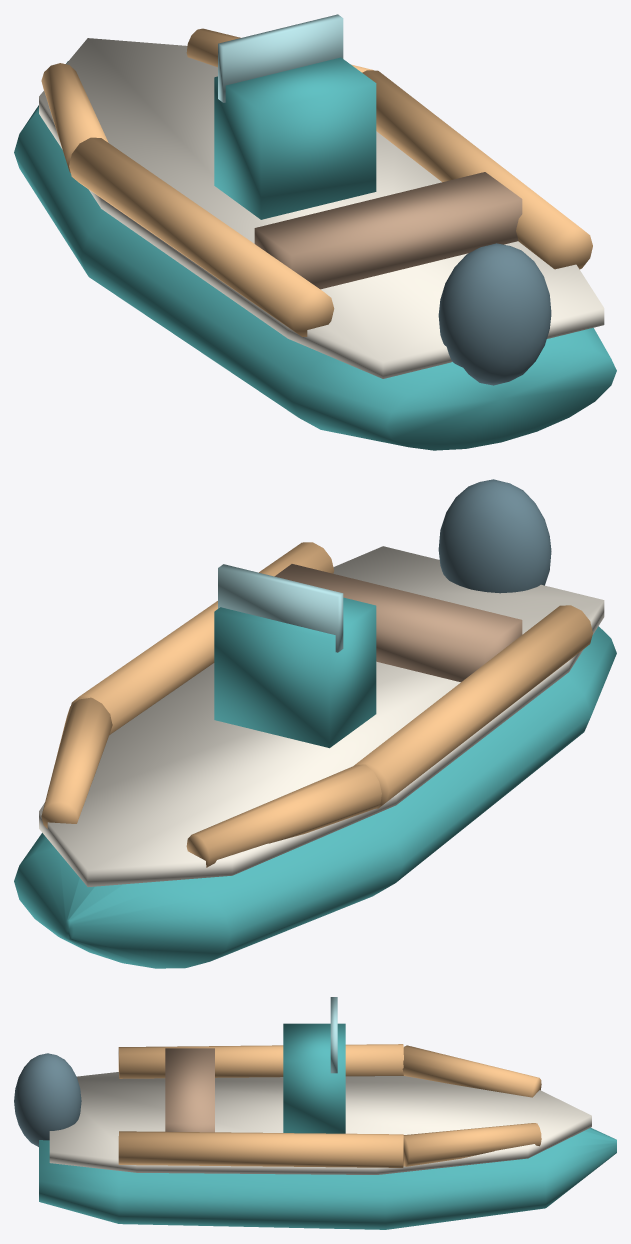
The model's file is rescue_boat.glb.
3 views of the same model, one above another, from view 1: azimuth 30°, elevation 25°; view 2: azimuth 150°, elevation 25°; view 3: azimuth 270°, elevation 25° (orthographic). The views are drawn at different scales.
Parts seen in each view (by area): view 1: shaped_hull, cream_deck, console, rear_bench, inflatable_rail_-1, outboard_motor, inflatable_rail_1, windshield, bow_rail_-1, bow_rail_1; view 2: cream_deck, shaped_hull, console, inflatable_rail_-1, rear_bench, outboard_motor, inflatable_rail_1, bow_rail_-1, windshield, bow_rail_1; view 3: shaped_hull, cream_deck, inflatable_rail_1, console, inflatable_rail_-1, outboard_motor, rear_bench, bow_rail_1, bow_rail_-1, windshield.
Boxes of the visible parts, box(x1,y1,x2,y2) form: shaped_hull: box(14, 61, 616, 450); cream_deck: box(39, 38, 604, 378); console: box(214, 57, 376, 219); rear_bench: box(254, 172, 522, 289); inflatable_rail_-1: box(69, 137, 334, 336); outboard_motor: box(438, 243, 551, 385); inflatable_rail_1: box(362, 70, 592, 269); windshield: box(218, 14, 343, 102); bow_rail_-1: box(41, 63, 108, 172); bow_rail_1: box(186, 28, 373, 72); cream_deck: box(39, 546, 604, 886); shaped_hull: box(14, 626, 616, 968); console: box(214, 597, 376, 748); inflatable_rail_-1: box(354, 605, 592, 808); rear_bench: box(274, 564, 522, 682); outboard_motor: box(438, 479, 551, 593); inflatable_rail_1: box(71, 542, 334, 734); bow_rail_-1: box(186, 764, 381, 867); windshield: box(218, 564, 343, 652); bow_rail_1: box(41, 697, 112, 828); shaped_hull: box(39, 1127, 616, 1229); cream_deck: box(49, 1072, 591, 1174); inflatable_rail_1: box(118, 1131, 403, 1167); console: box(283, 1023, 345, 1133); inflatable_rail_-1: box(118, 1044, 403, 1078); outboard_motor: box(14, 1053, 81, 1146); rear_bench: box(165, 1048, 214, 1132); bow_rail_1: box(403, 1123, 541, 1166); bow_rail_-1: box(402, 1045, 541, 1097); windshield: box(330, 997, 337, 1073).
Bounding box in the file's own units: 1.4 × 1.17 × 3.39.
